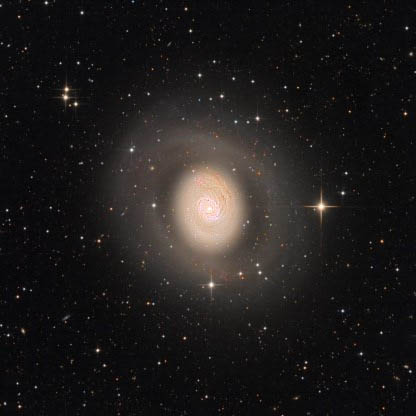Messier 94: (102, 83, 325, 330)
